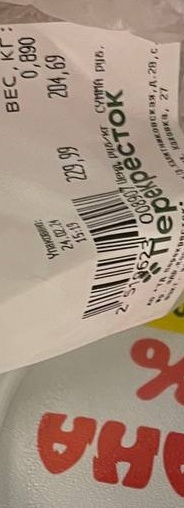1d: (71, 189, 140, 320)
